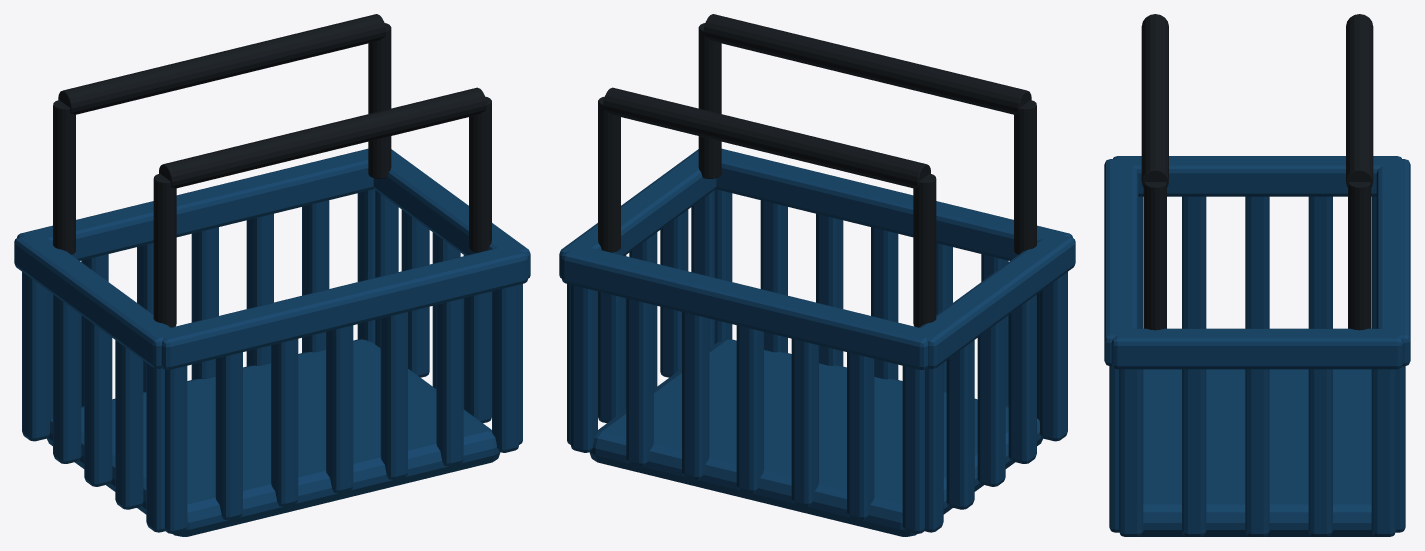
Rendered from edited.glb.
3 renders of one model, left to right at view 1: azimuth 30°, elevation 25°; view 2: azimuth 150°, elevation 25°; view 3: azimuth 270°, elevation 25°, orthographic.
Visible parts, largest first — view 1: BASKET_SlottedWalls, BASKET_Base, HANDLE_Grip, HANDLE_Grip.001, HANDLE_Upright, HANDLE_Upright.002, HANDLE_Upright.001, HANDLE_Upright.003; view 2: BASKET_SlottedWalls, BASKET_Base, HANDLE_Grip.001, HANDLE_Grip, HANDLE_Upright.002, HANDLE_Upright, HANDLE_Upright.003, HANDLE_Upright.001; view 3: BASKET_SlottedWalls, BASKET_Base, HANDLE_Grip, HANDLE_Grip.001, HANDLE_Upright.001, HANDLE_Upright.003.
Boxes of the visible parts, x1,y1,x2,y2 form: BASKET_SlottedWalls: [14, 148, 530, 533]; BASKET_Base: [46, 339, 500, 536]; HANDLE_Grip: [159, 87, 486, 188]; HANDLE_Grip.001: [58, 14, 385, 114]; HANDLE_Upright: [153, 173, 176, 327]; HANDLE_Upright.002: [53, 100, 75, 254]; HANDLE_Upright.001: [469, 96, 491, 252]; HANDLE_Upright.003: [368, 23, 391, 178]; BASKET_SlottedWalls: [559, 148, 1075, 533]; BASKET_Base: [589, 339, 1043, 536]; HANDLE_Grip.001: [603, 87, 930, 188]; HANDLE_Grip: [704, 14, 1031, 114]; HANDLE_Upright.002: [913, 173, 936, 327]; HANDLE_Upright: [1014, 100, 1036, 254]; HANDLE_Upright.003: [598, 96, 620, 252]; HANDLE_Upright.001: [698, 23, 721, 178]; BASKET_SlottedWalls: [1104, 156, 1410, 536]; BASKET_Base: [1138, 369, 1376, 536]; HANDLE_Grip: [1141, 14, 1168, 187]; HANDLE_Grip.001: [1346, 14, 1373, 187]; HANDLE_Upright.001: [1143, 182, 1166, 330]; HANDLE_Upright.003: [1348, 182, 1371, 330].
Bounding box in the file's own units: 0.455 × 0.419 × 0.315.
